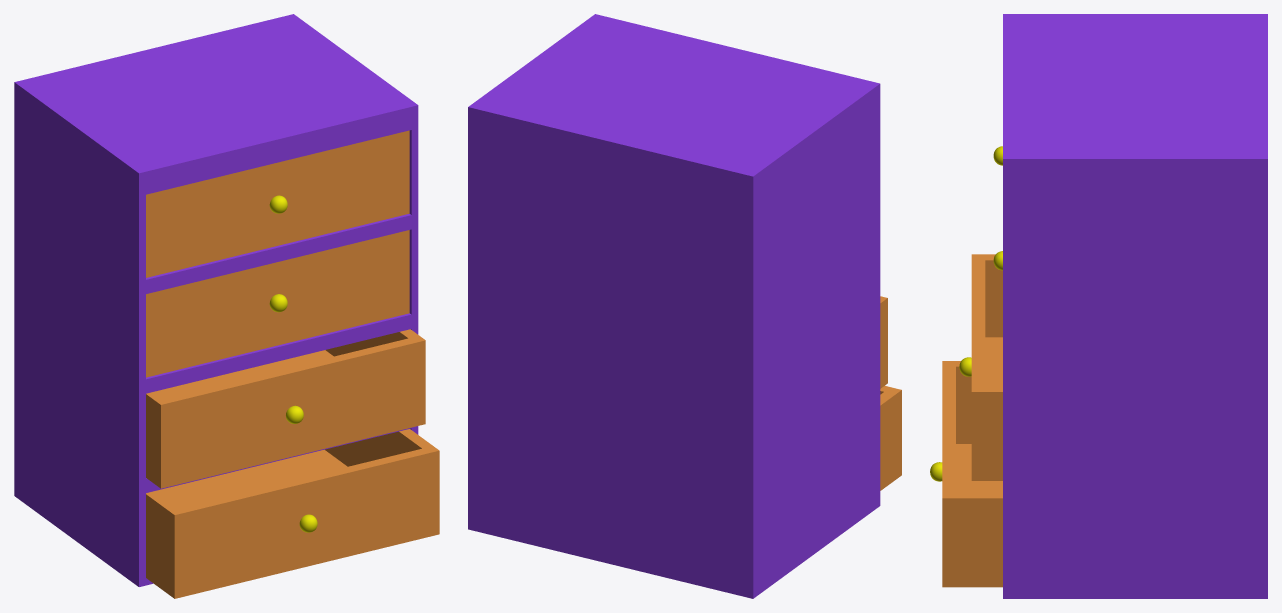
Rendered from Drawer.fbx.
3 renders of one model, left to right at view 1: azimuth 30°, elevation 25°; view 2: azimuth 150°, elevation 25°; view 3: azimuth 270°, elevation 25°, orthographic. The views are drawn at different scales.
Parts seen in each view (by area): view 1: Cube, Cube.004, Cube.003, Cube.002, Cube.001; view 2: Cube, Cube.004, Cube.003; view 3: Cube, Cube.004, Cube.003.
Boxes of the visible parts, <box> form: Cube: <box>14,14,418,586</box>; Cube.004: <box>146,429,439,598</box>; Cube.003: <box>146,329,425,488</box>; Cube.002: <box>146,230,409,377</box>; Cube.001: <box>146,130,409,277</box>; Cube: <box>468,14,880,598</box>; Cube.004: <box>880,386,901,490</box>; Cube.003: <box>880,296,887,388</box>; Cube: <box>1003,14,1267,598</box>; Cube.004: <box>942,361,1002,587</box>; Cube.003: <box>971,254,1002,480</box>.
Bounding box in the file's own units: 160 × 227 × 158.
